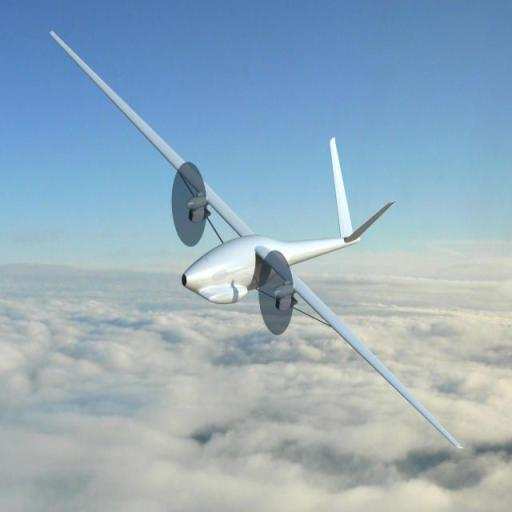uav: (42, 14, 472, 468)
